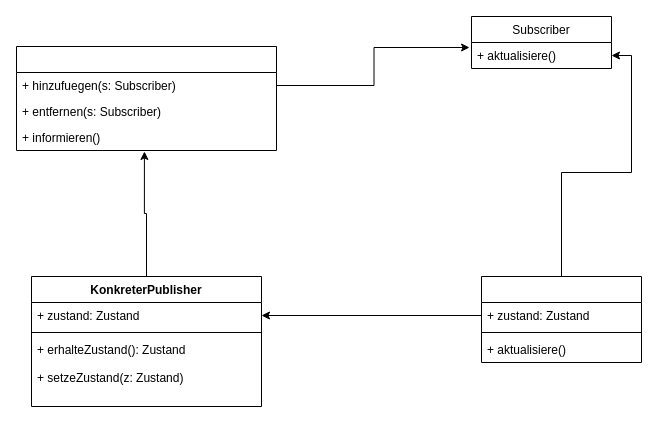
This 658x423 diagram has some shape labels left out. Here are the shapes that lost their labels. From the top down, the box of each, then its label:
(16, 46, 276, 150): Publisher
(480, 276, 642, 362): KonkreterSubscriber
